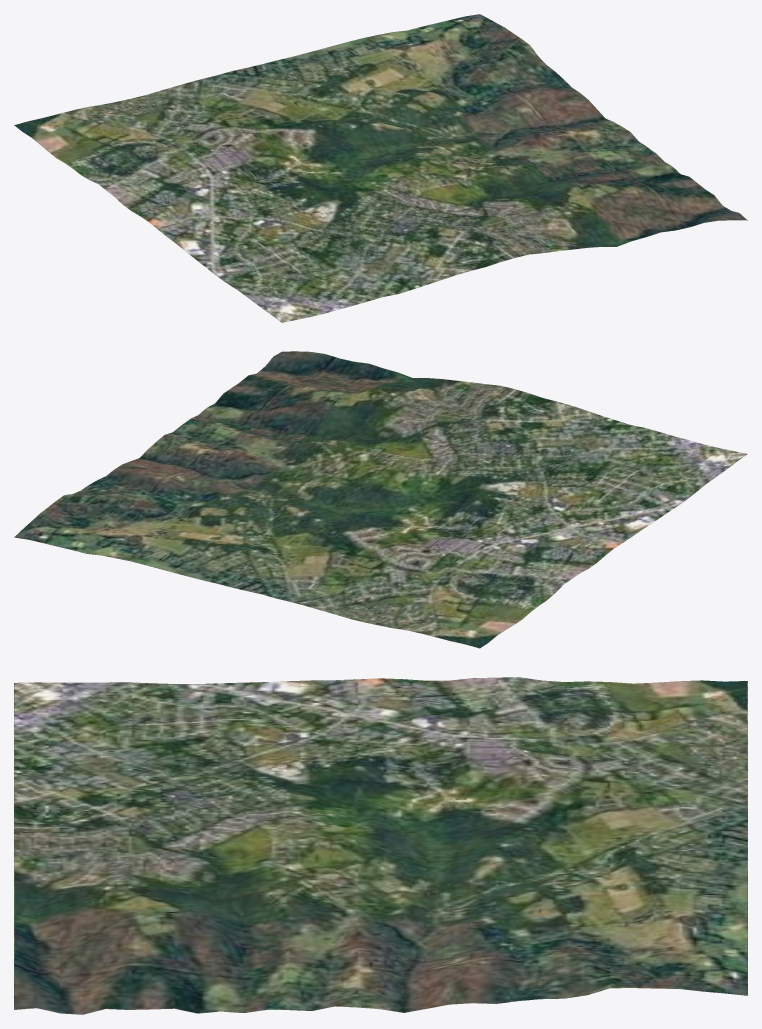
The picture shows the model from 3 angles, top to bottom: view 1: azimuth 30°, elevation 25°; view 2: azimuth 150°, elevation 25°; view 3: azimuth 270°, elevation 25°; orthographic projection. The views are drawn at different scales.
Size of the model in its own units: 3900 by 191 by 3883.
Materials: 1 (1 with a texture image).
